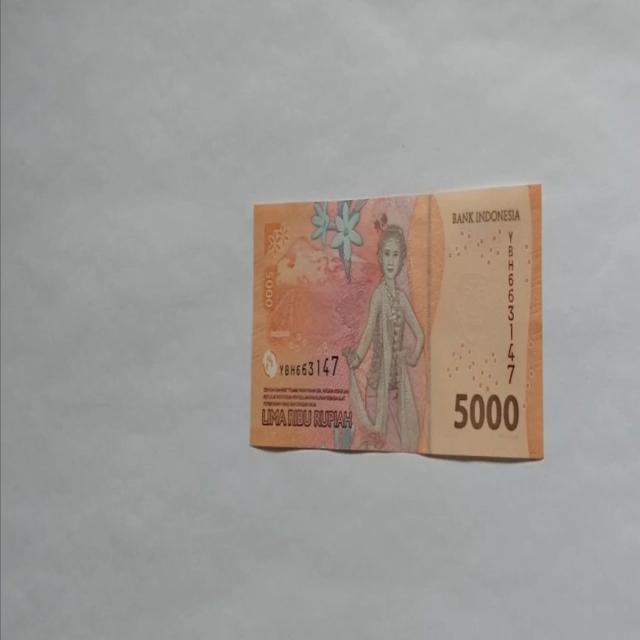lima ribu rupiah: (250, 182, 544, 460), (340, 223, 426, 452)
